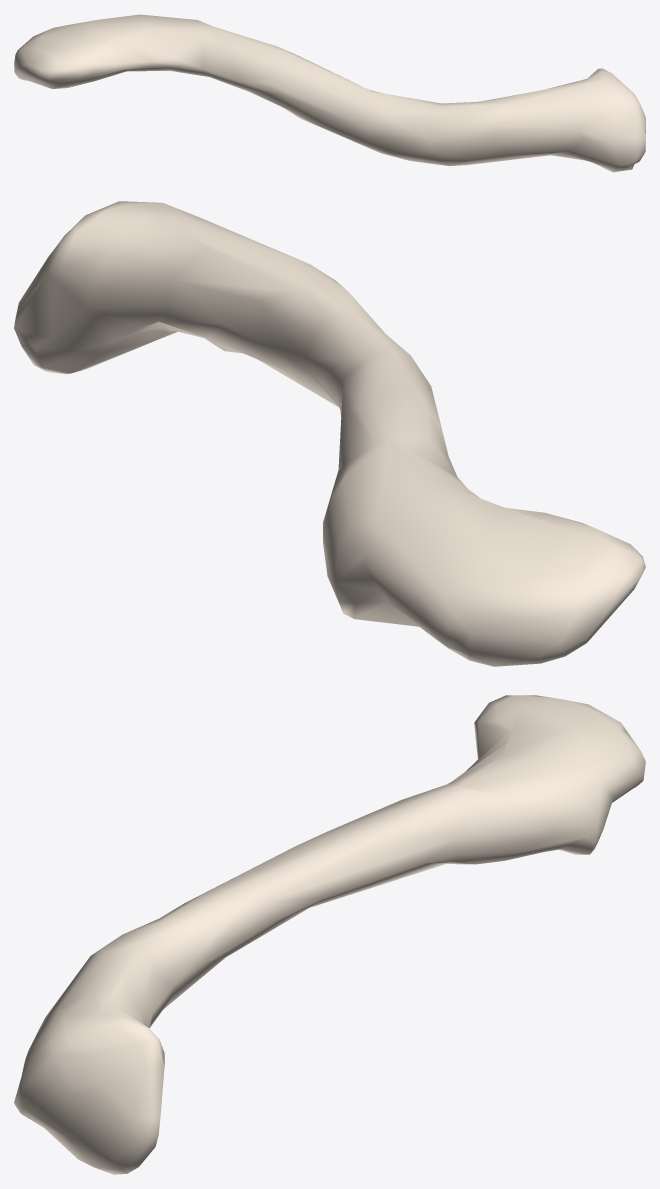
The model's file is right_clavicle.glb.
The picture shows the model from 3 angles, top to bottom: view 1: azimuth 30°, elevation 25°; view 2: azimuth 150°, elevation 25°; view 3: azimuth 270°, elevation 25°; orthographic projection. The views are drawn at different scales.
Visible parts, largest first — view 1: Clavicle.r; view 2: Clavicle.r; view 3: Clavicle.r.
Part boxes in pixels (bbox=[...]): Clavicle.r: bbox=[14, 14, 645, 172]; Clavicle.r: bbox=[14, 201, 645, 666]; Clavicle.r: bbox=[14, 695, 645, 1174].
Bounding box in the file's own units: 0.1003 × 0.0245 × 0.0791.
